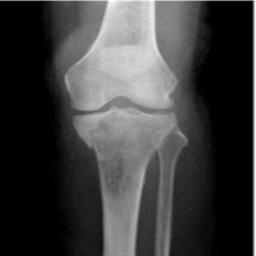cancer: (96, 145, 153, 198)
